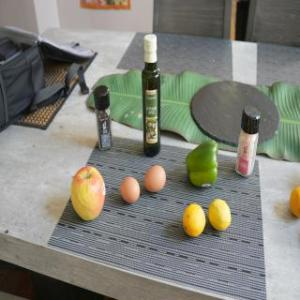bell_pepper: (183, 136, 222, 189)
egg: (144, 164, 170, 196), (118, 177, 142, 205)
